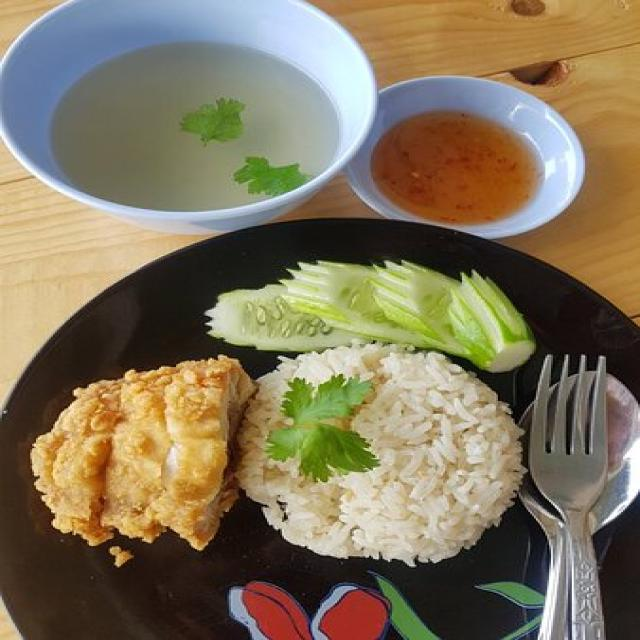Carbohydrate: (245, 342, 524, 562)
Kaow-Mankai: (0, 220, 640, 640)
Protein: (30, 353, 255, 549)
Vegetable: (194, 259, 536, 369)
